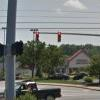Traffic light: (31, 28, 70, 50)
